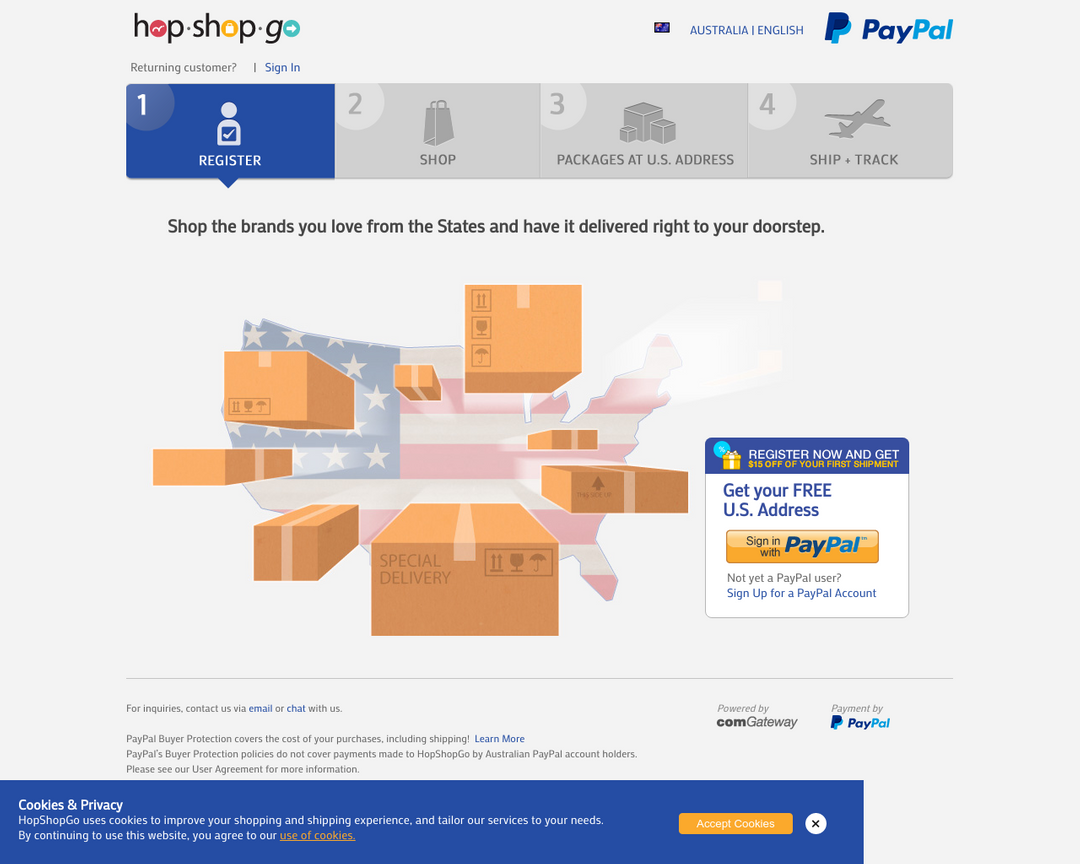Paypal: (822, 4, 957, 53), (782, 532, 868, 562), (829, 713, 894, 732)
